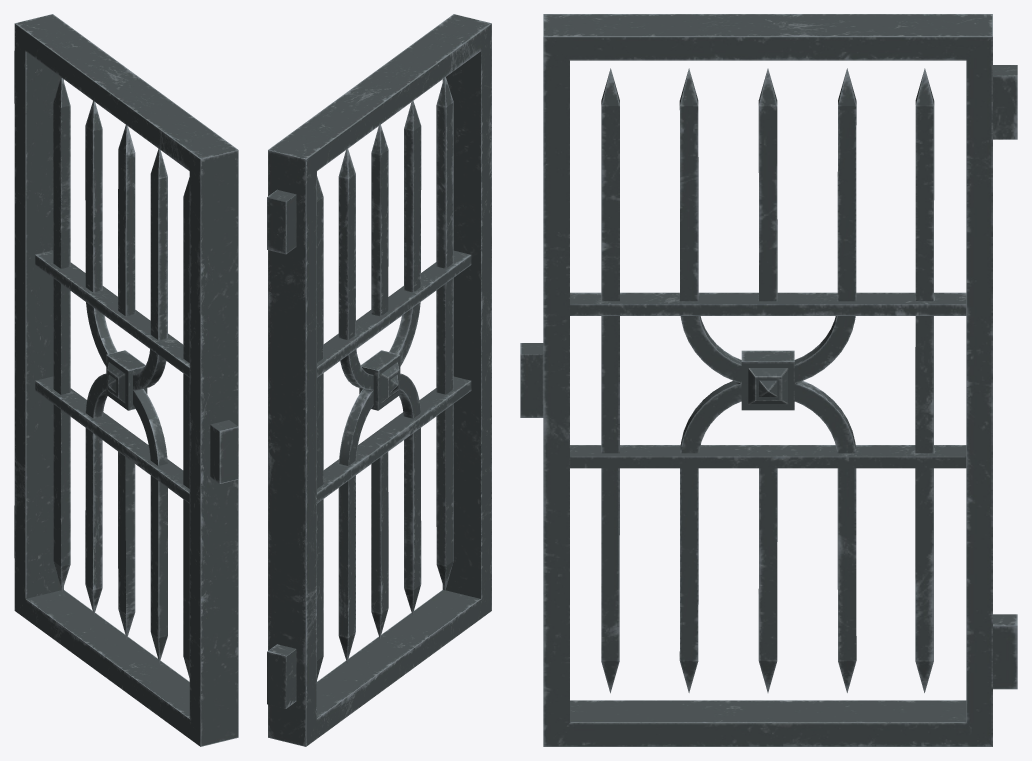
Rendered from uploads_files_2810578_gate+FBX.FBX.
3 renders of one model, left to right at view 1: azimuth 30°, elevation 25°; view 2: azimuth 150°, elevation 25°; view 3: azimuth 270°, elevation 25°, orthographic. The views are drawn at different scales.
Parts seen in each view (by area): view 1: Object332; view 2: Object332; view 3: Object332.
Boxes of the visible parts, left/top/right/bottom form: Object332: left=14, top=14, right=238, bottom=746; Object332: left=267, top=14, right=491, bottom=746; Object332: left=520, top=14, right=1017, bottom=746.
Bounding box in the file's own units: 7.88 × 116 × 73.56.
